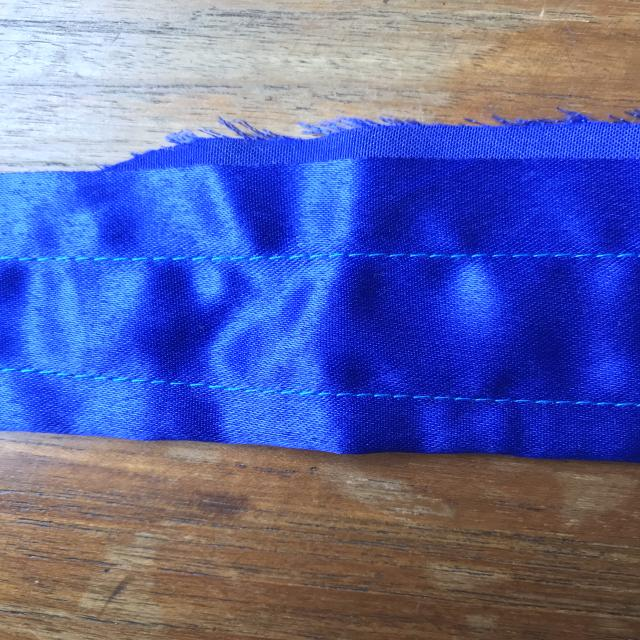good: (373, 374, 560, 427), (383, 227, 562, 273)
